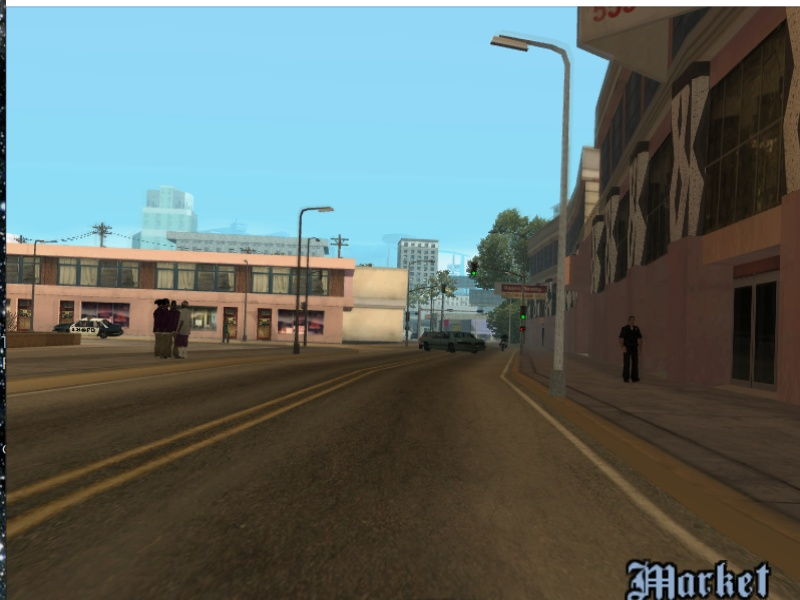person: (619, 315, 642, 386), (178, 298, 194, 358), (149, 298, 163, 358), (160, 296, 172, 356)
pole: (548, 54, 570, 398), (293, 203, 307, 362)
vehicle: (49, 314, 124, 340), (418, 331, 483, 356), (499, 332, 510, 351)
